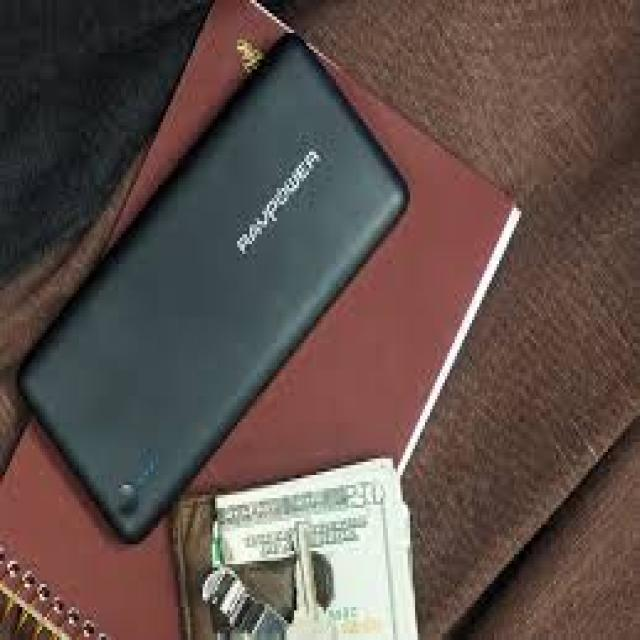power_bank: (0, 36, 409, 552)
